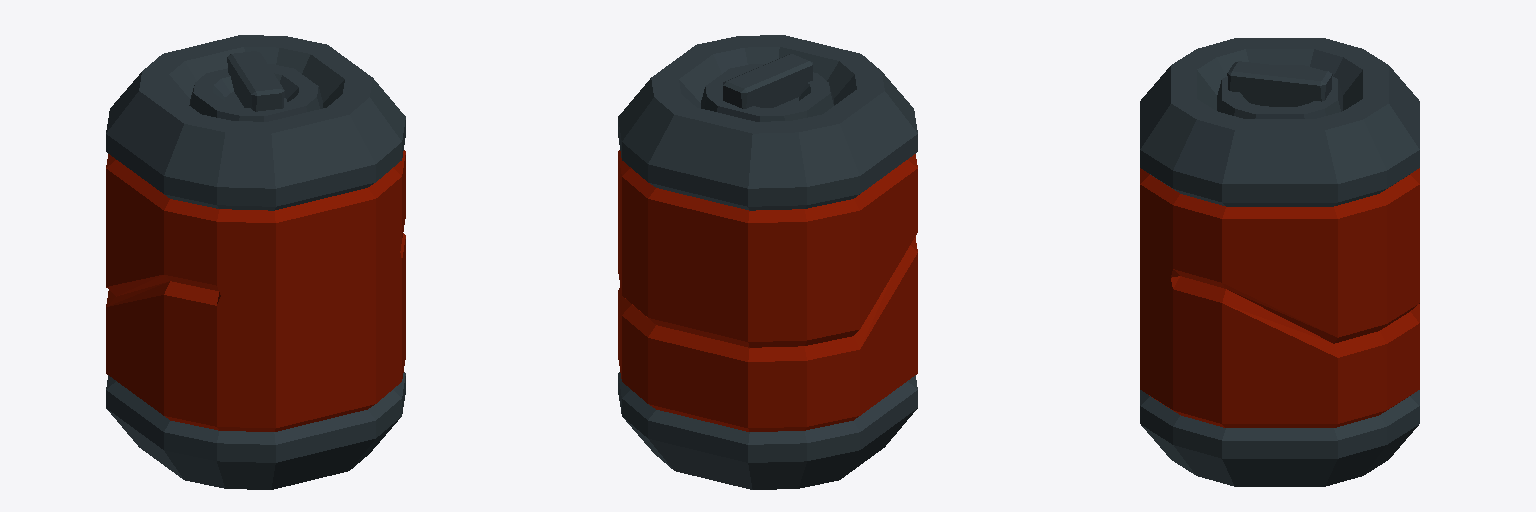
File: fuel_canisterB.obj
3 views of the same model, side by side, from view 1: azimuth 30°, elevation 25°; view 2: azimuth 150°, elevation 25°; view 3: azimuth 270°, elevation 25° (orthographic).
Visible parts, largest first — view 1: fuel_canisterB_Cylinder.106; view 2: fuel_canisterB_Cylinder.106; view 3: fuel_canisterB_Cylinder.106.
Boxes of the visible parts, box(x1,y1,x2,y2) form: fuel_canisterB_Cylinder.106: box(106, 35, 405, 489); fuel_canisterB_Cylinder.106: box(618, 35, 917, 489); fuel_canisterB_Cylinder.106: box(1140, 38, 1419, 486).
Bounding box in the file's own units: 0.7837 × 1.14 × 0.7837.